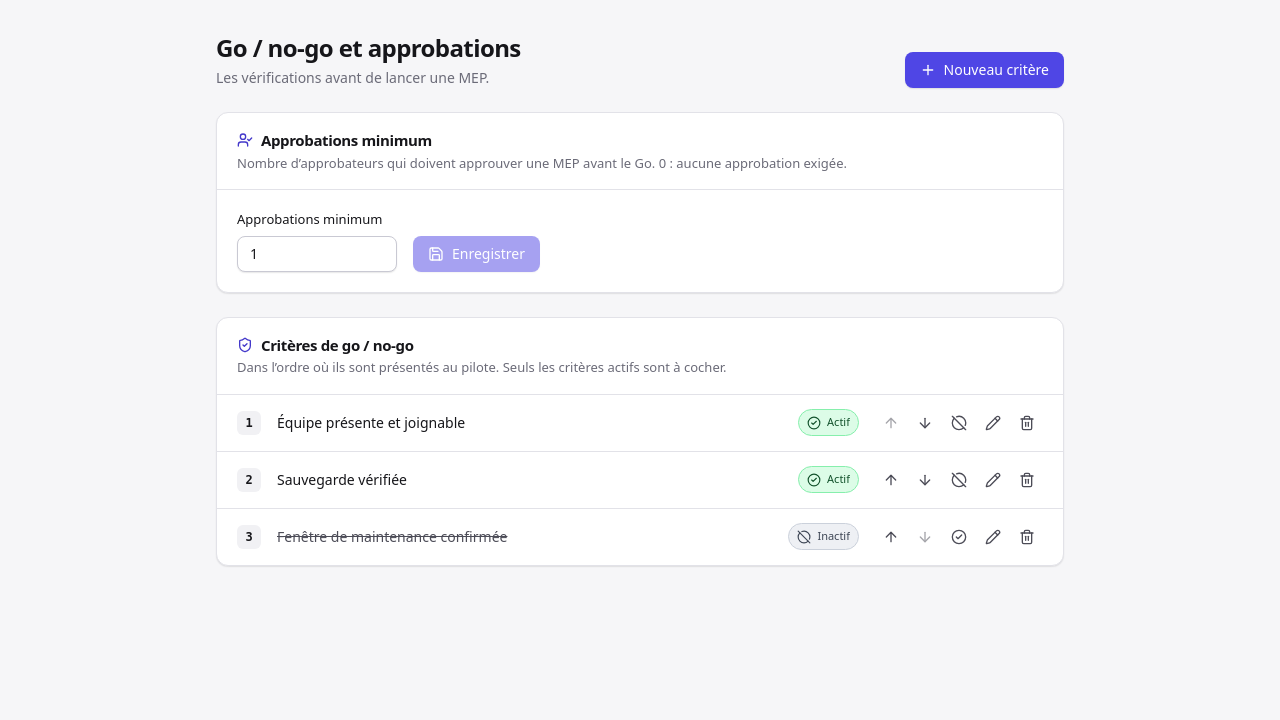
Test: GoNoGoPage : critères de go / no-go et approbations minimum › nouveau critère : libellé obligatoire, espaces retirés, liste relue
Check: the text "Équipe présente et joignable" is shown, box x1=277 y1=413 x2=465 y2=432
Click the button "Nouveau critère": point(984, 70) x1=905 y1=52 x2=1064 y2=88
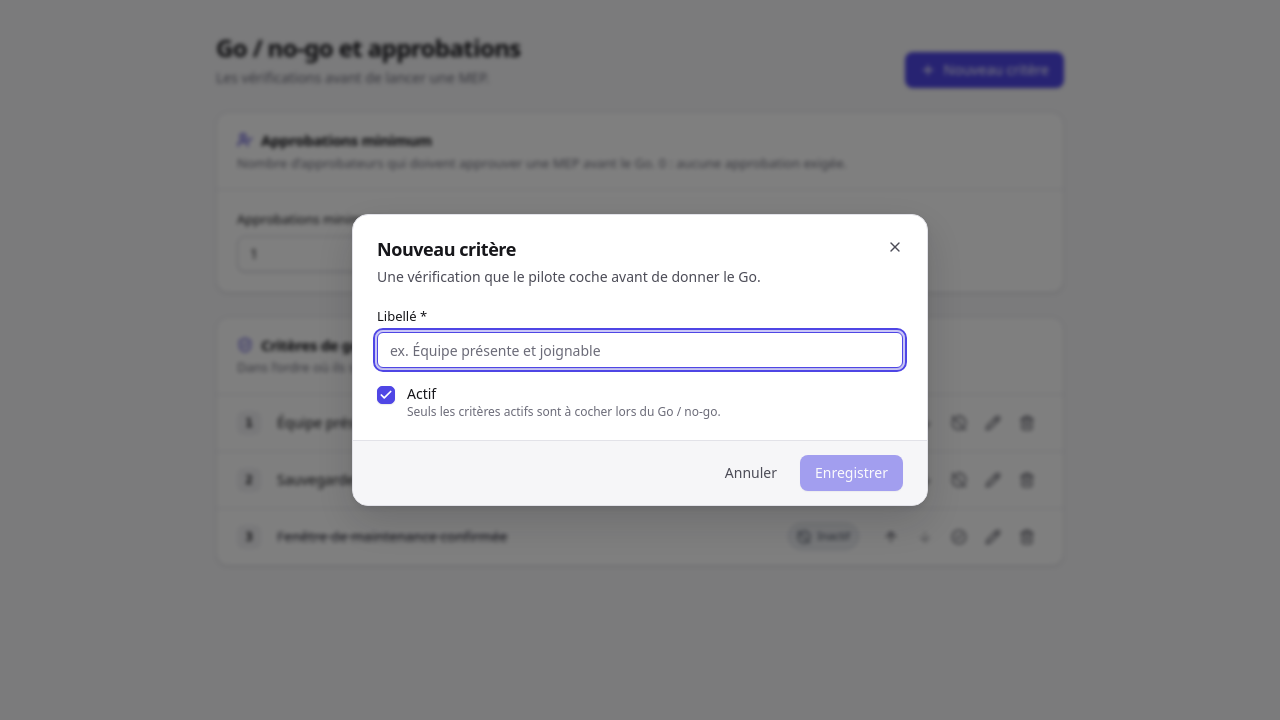
Check: the button "Enregistrer" is disabled, box x1=800 y1=455 x2=903 y2=491
In the field labelled "Libellé *": point(640, 350) x1=377 y1=332 x2=903 y2=368, type "  Astreinte prévenue  "
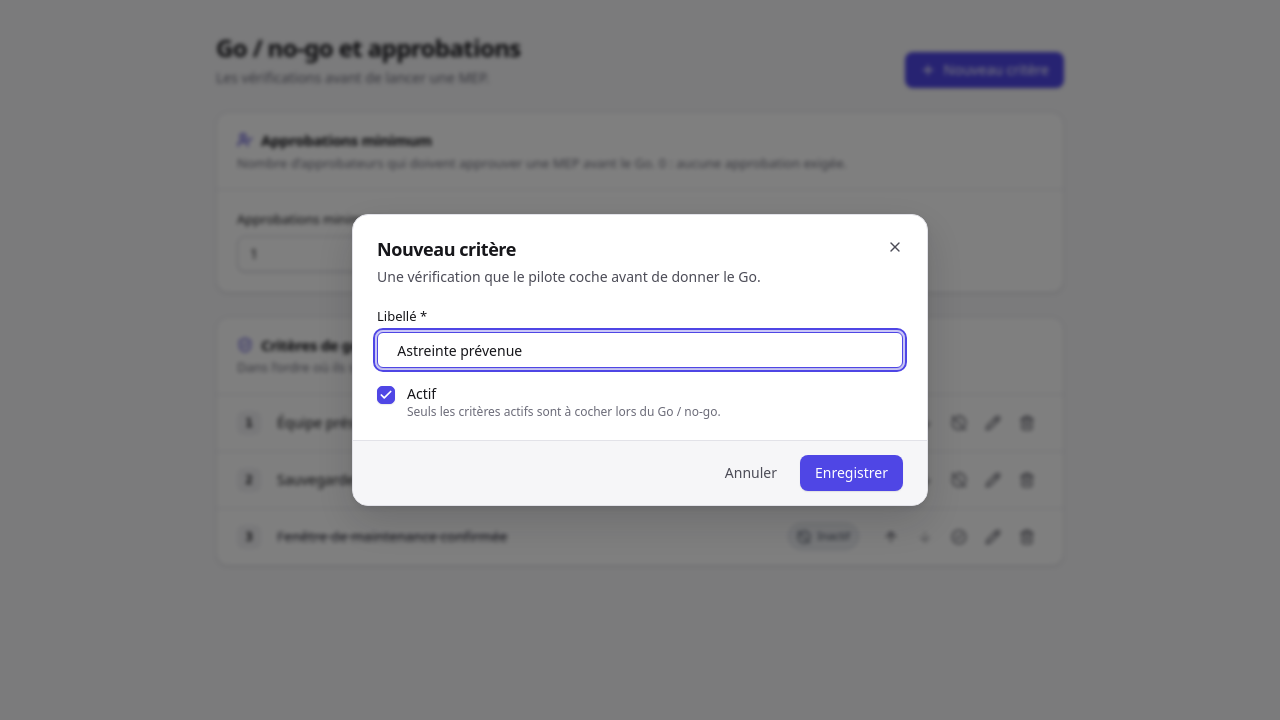
Click the button "Enregistrer": point(852, 473) x1=800 y1=455 x2=903 y2=491
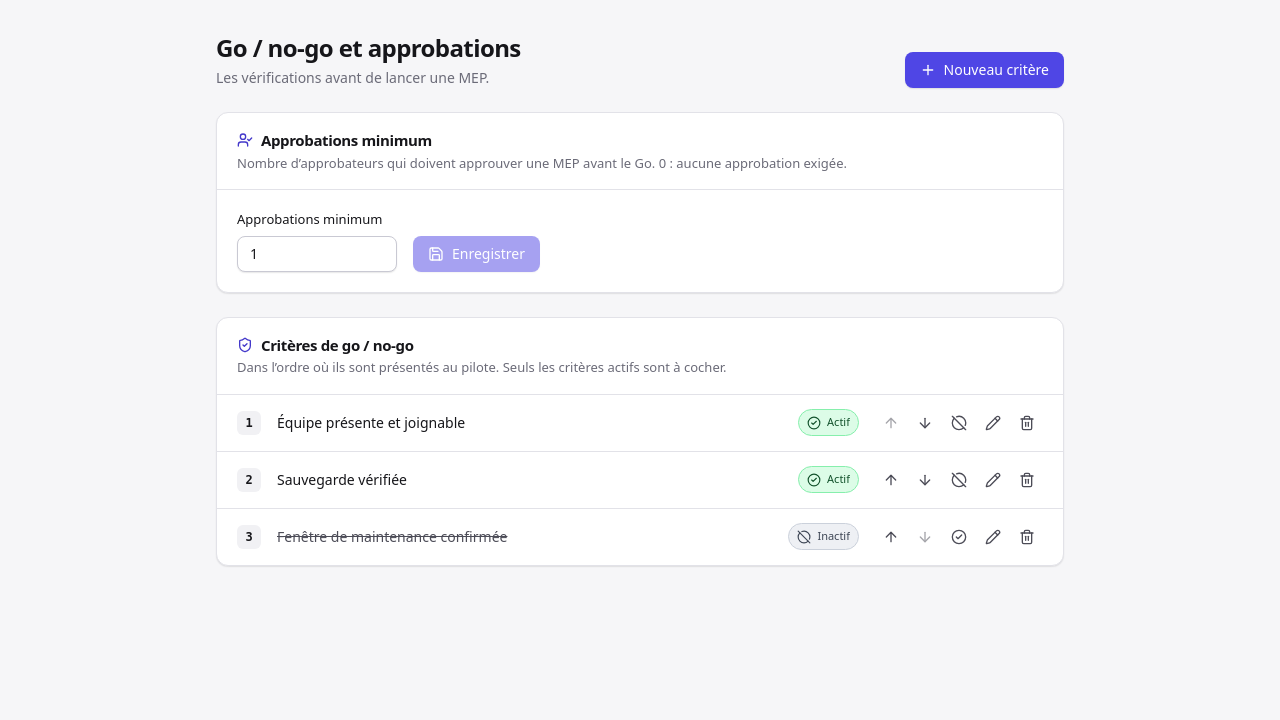
Check: the dialog is gone
